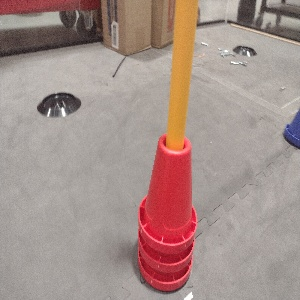Blue_1: (281, 101, 299, 151)
Red_3: (136, 131, 197, 292)
